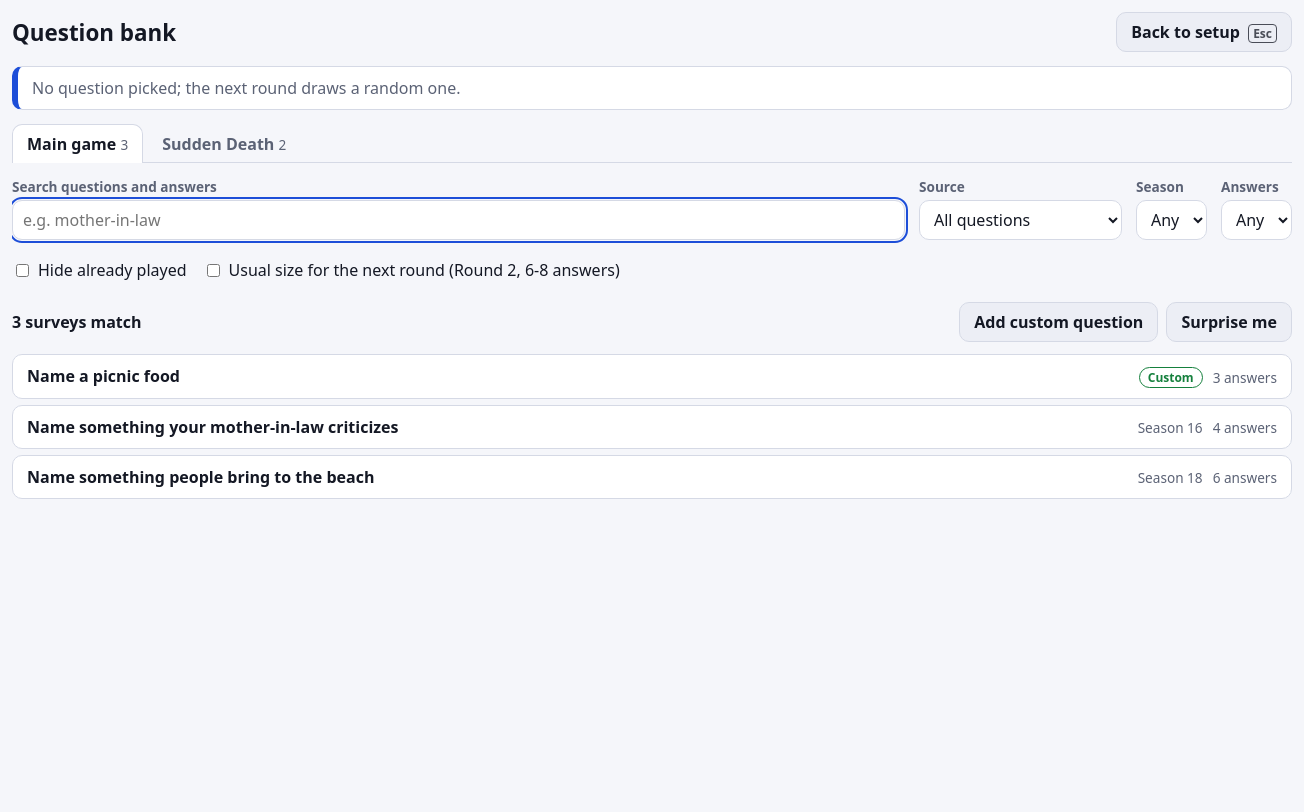
Test: custom questions in the question browser › lists custom questions in the tab of their kind, with a Custom badge instead of a season
The width and height of the screenshot is (1304, 812).
Check: the tab "Main game 3" is shown, box [12,124,143,163]
Check: the tab "Sudden Death 2" is shown, box [147,124,301,163]
# Answers are shown most points first.
Click the button "Name a picnic food Custom 3 answers": [103, 376] box [13,355,1291,398]
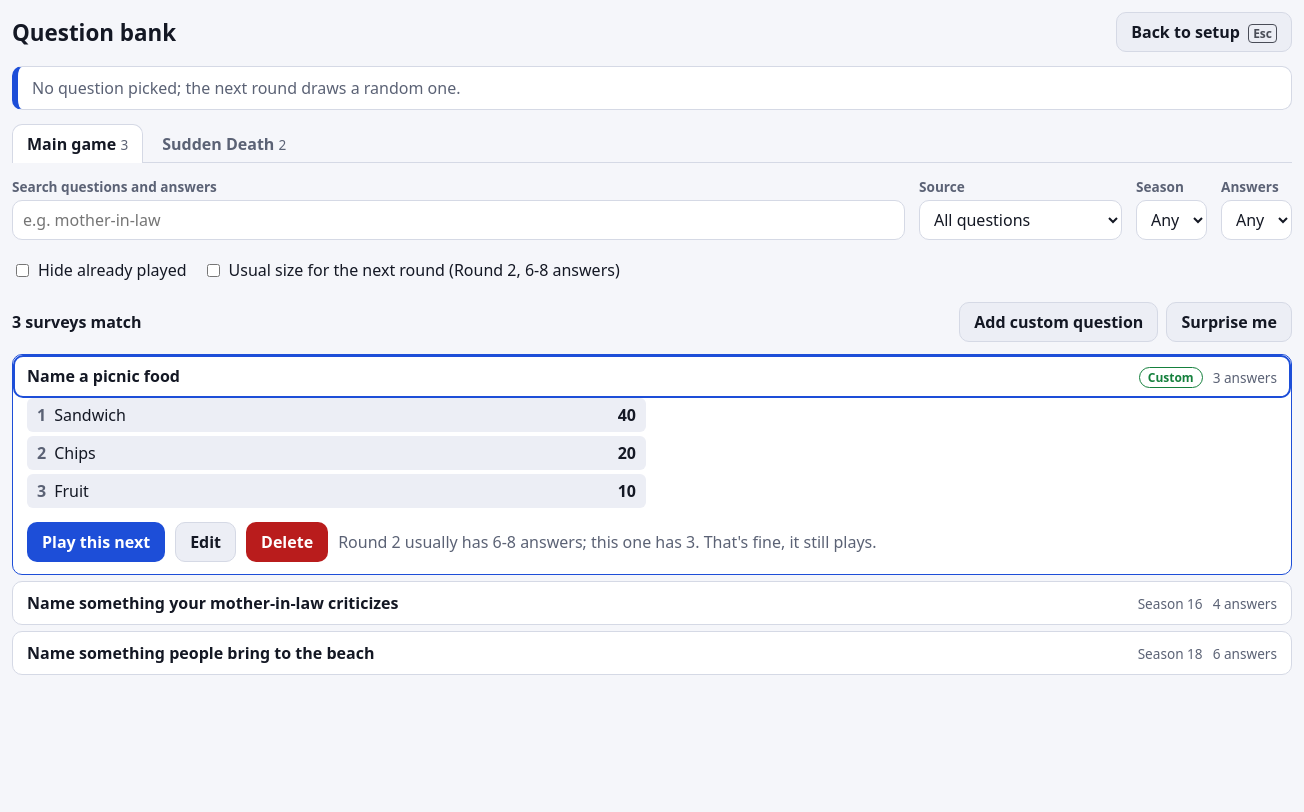
Check: the list items read "1Sandwich40", "2Chips20", "3Fruit10", in this order, box [27,398,646,432]; [27,436,646,470]; [27,474,646,508]
Click the tab "Sudden Death 2": [224, 144] box [147,124,301,163]
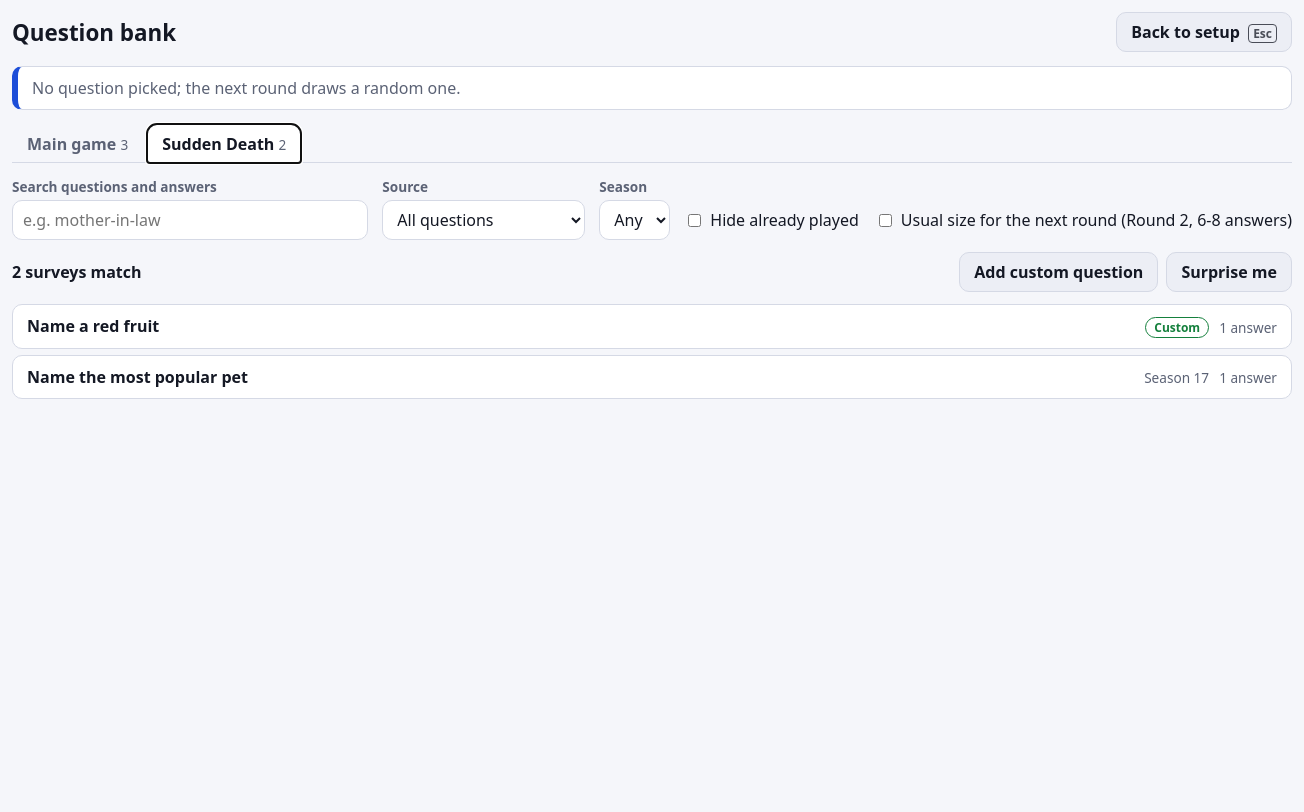
Check: the text "Custom" is shown, box [1145,317,1209,338]
Check: the button "Name the most popular pet Season 17 1 answer" is shown, box [13,356,1291,398]
